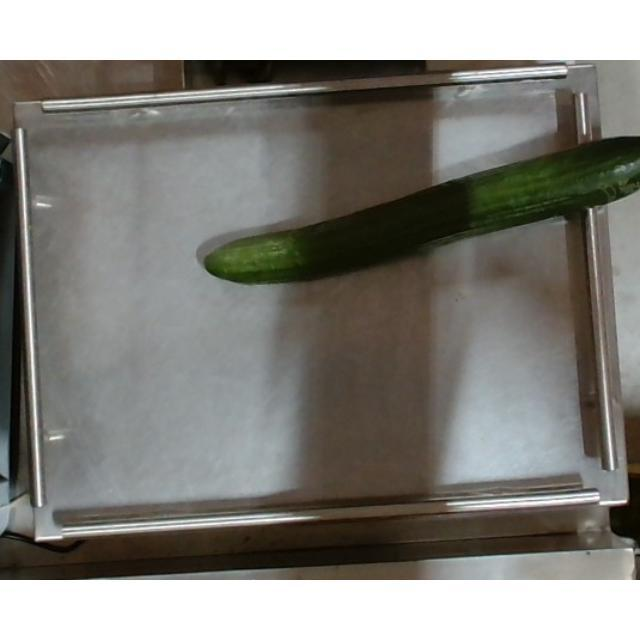cucumber: (182, 131, 640, 283)
